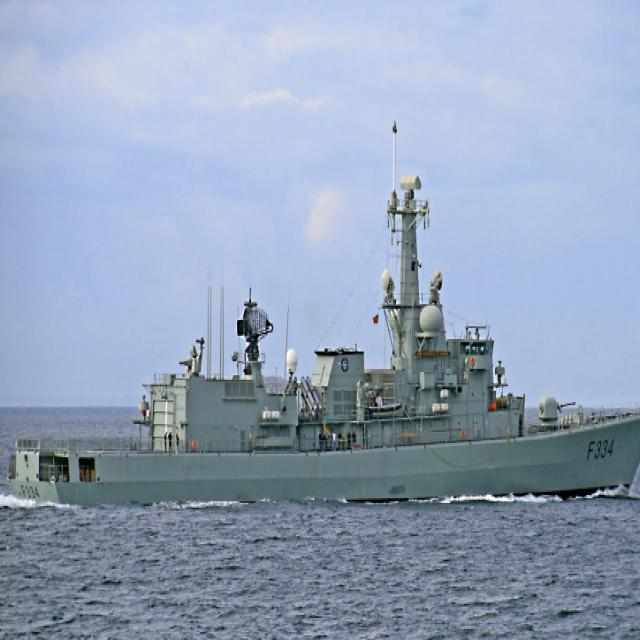Fragata: (10, 119, 640, 504)
